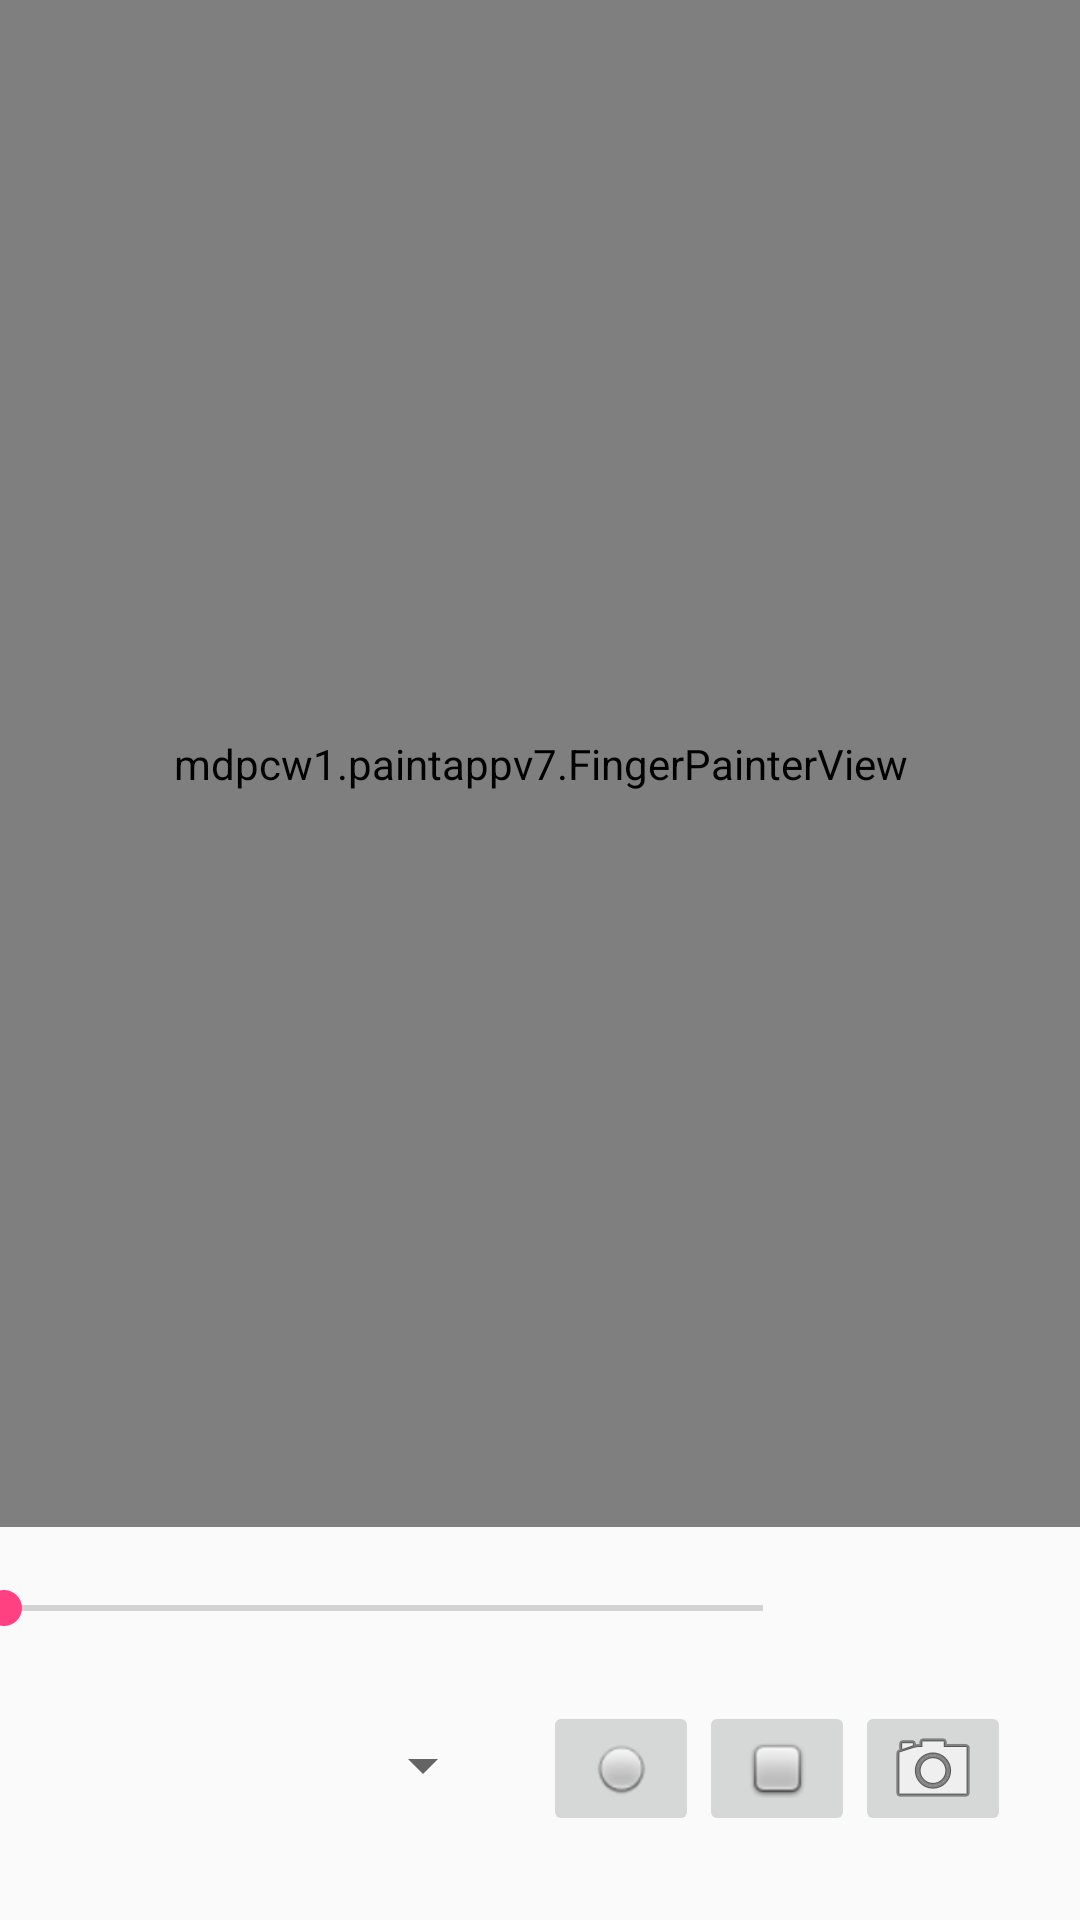

Screen size 1080*1920. Icon name, then its center in pixels as (x=x, y=y):
camera: (x=933, y=1768)
